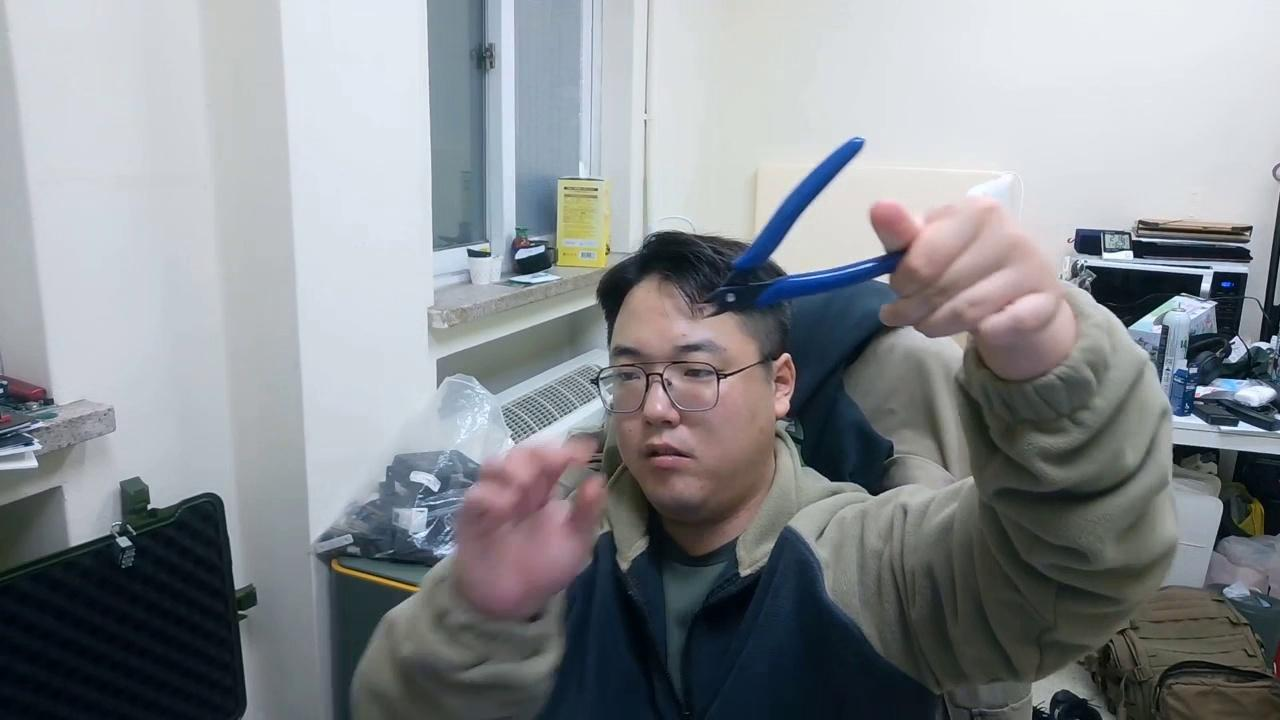blue_pliers: (700, 135, 912, 318)
